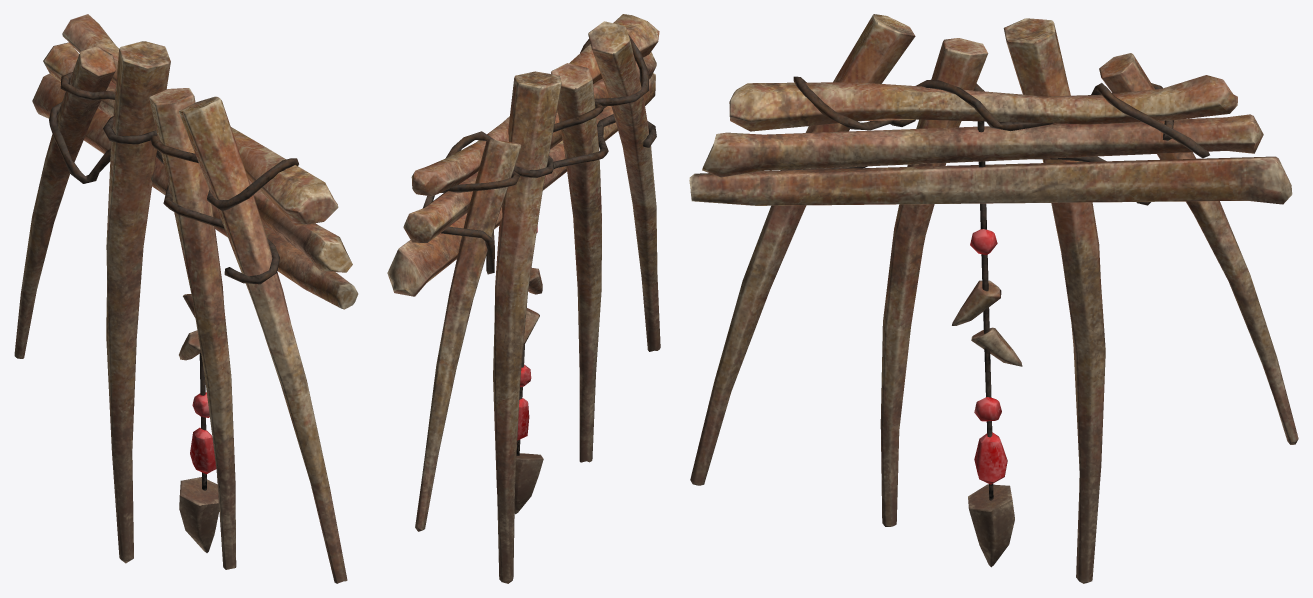
File: SM_ShamanSign.fbx
The picture shows the model from 3 angles, left to right: view 1: azimuth 30°, elevation 25°; view 2: azimuth 150°, elevation 25°; view 3: azimuth 270°, elevation 25°; orthographic projection. The views are drawn at different scales.
Visible parts, largest first — view 1: SM_ShamanSign_LOD0; view 2: SM_ShamanSign_LOD0; view 3: SM_ShamanSign_LOD0.
Boxes of the visible parts, x1,y1,x2,y2 form: SM_ShamanSign_LOD0: [14, 14, 358, 583]; SM_ShamanSign_LOD0: [387, 14, 660, 583]; SM_ShamanSign_LOD0: [689, 14, 1298, 583].
Size of the model in its own units: 37.15 by 209 by 211.
Materials: 1 (1 with a texture image).
